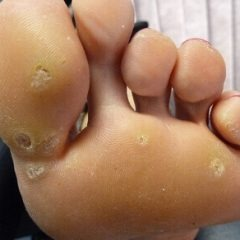Warts: (6, 57, 64, 194), (201, 150, 231, 183), (129, 126, 160, 155)
